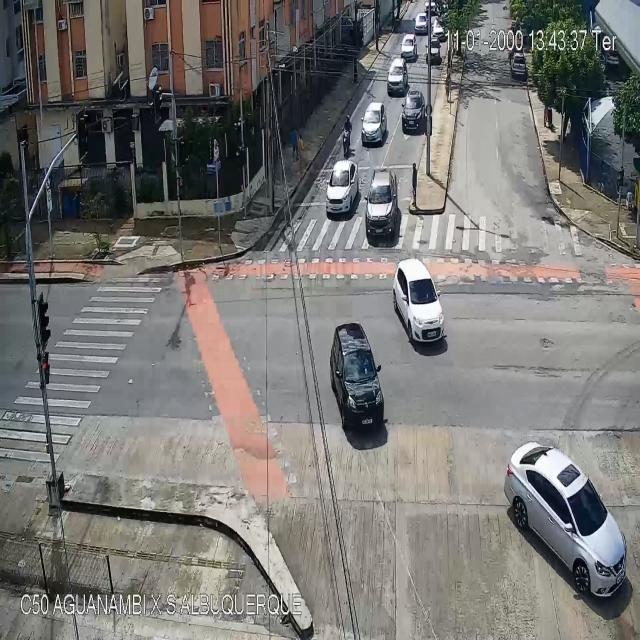Car: (504, 439, 627, 594), (328, 326, 384, 433), (391, 259, 445, 345), (366, 167, 401, 237), (325, 159, 358, 216), (361, 102, 386, 146), (402, 89, 425, 130), (387, 59, 408, 94), (401, 34, 417, 60), (432, 18, 447, 41), (426, 38, 440, 62), (511, 52, 526, 74), (414, 12, 428, 33), (424, 1, 436, 13)
Motorcycle: (341, 115, 351, 156)
